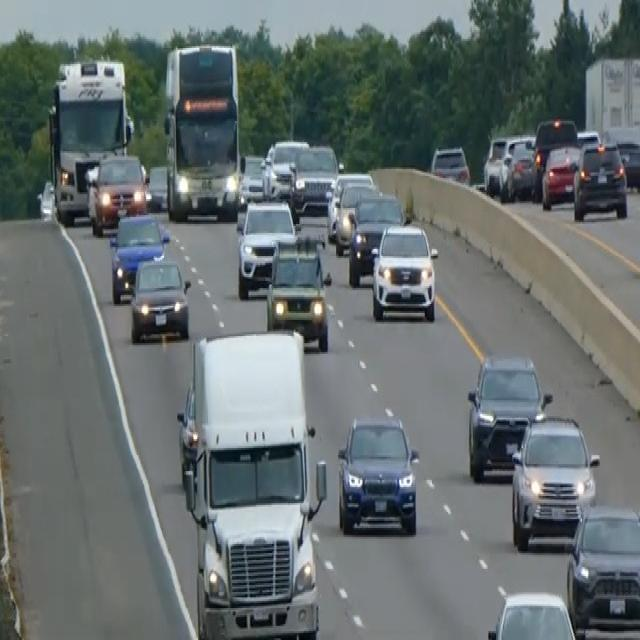bus: (162, 41, 241, 220)
car: (509, 411, 599, 549), (466, 350, 551, 480), (336, 411, 420, 537), (565, 502, 639, 638), (370, 218, 439, 322), (235, 197, 297, 299), (108, 210, 170, 302), (129, 254, 191, 343), (347, 192, 405, 286), (85, 151, 149, 235), (485, 588, 583, 638), (572, 137, 628, 220), (530, 116, 578, 199), (482, 130, 535, 201), (326, 169, 375, 242), (290, 142, 338, 212), (540, 140, 581, 210), (264, 137, 308, 197), (603, 124, 639, 190), (507, 137, 536, 199), (482, 134, 510, 198), (237, 151, 269, 206), (430, 142, 470, 185), (35, 178, 57, 222)
jeep: (265, 233, 332, 352)
lorry: (176, 326, 327, 638)
